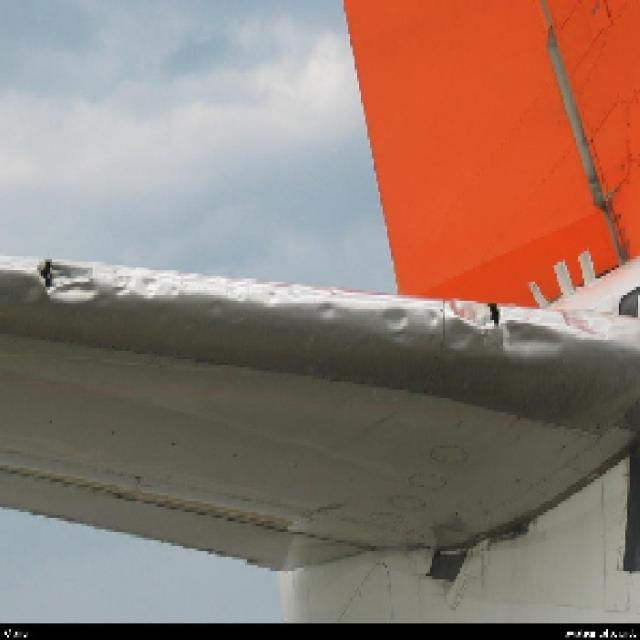dent: (36, 255, 619, 366)
